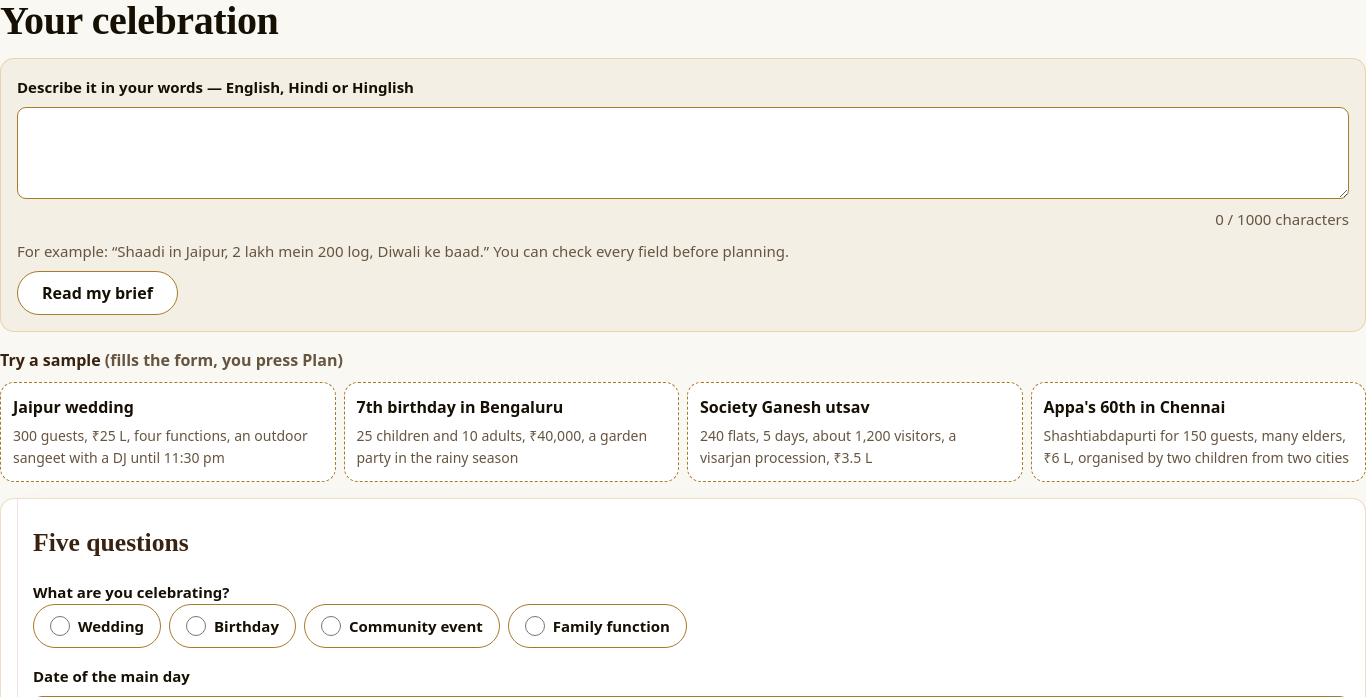
it: family choice › resets the occasion and drops functions from another family
This screenshot has width=1366, height=697.
Click the radio button labelled "Wedding".
click(60, 626)  # box 50,616 -> 70,636
(page scrolled)
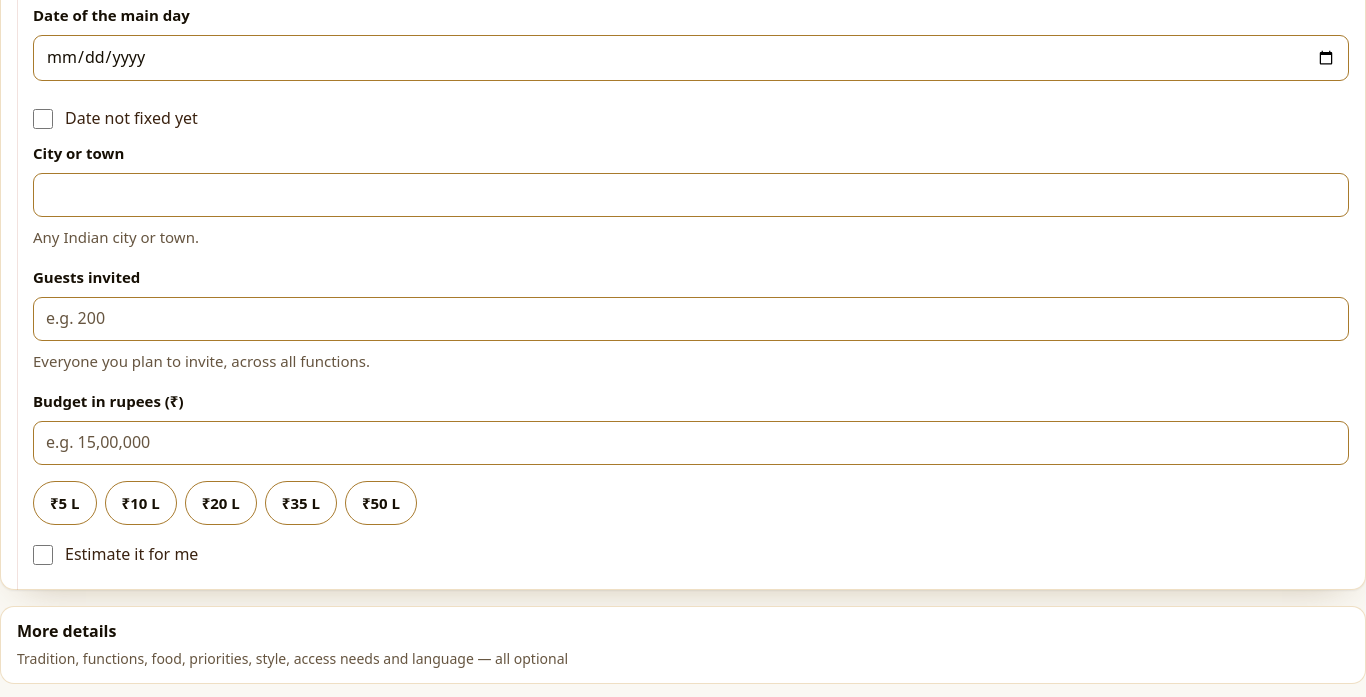
Click the text "More details".
click(67, 631)  # box 17,620 -> 116,642
(page scrolled)
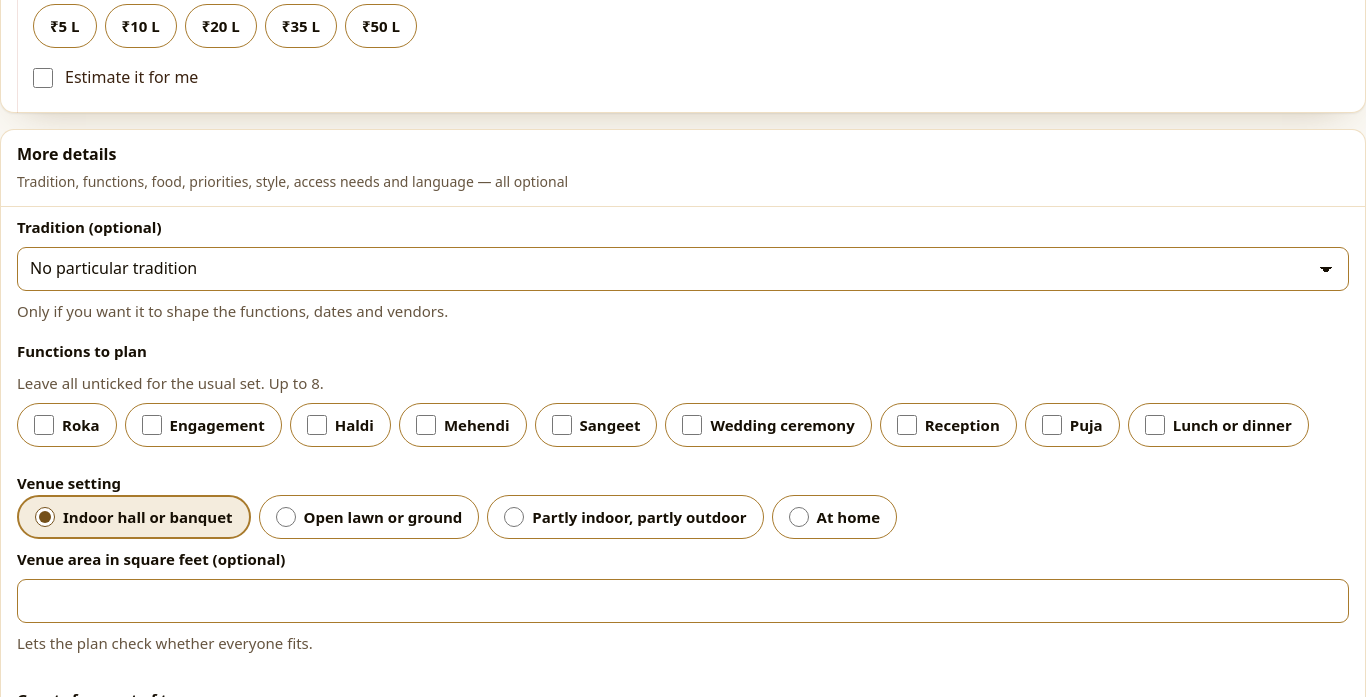
Click the checkbox labelled "Sangeet".
click(562, 425)  # box 552,415 -> 572,435
(page scrolled)
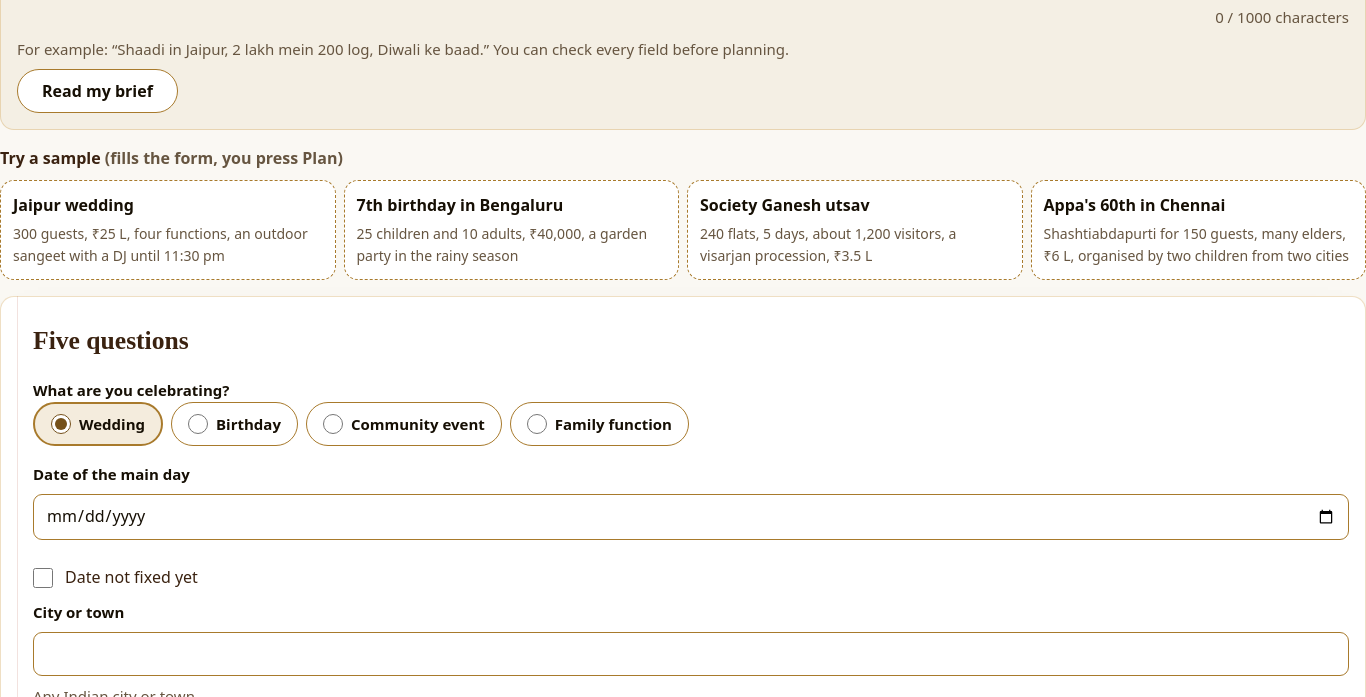
Click the radio button labelled "Birthday".
click(198, 424)  # box 188,414 -> 208,434
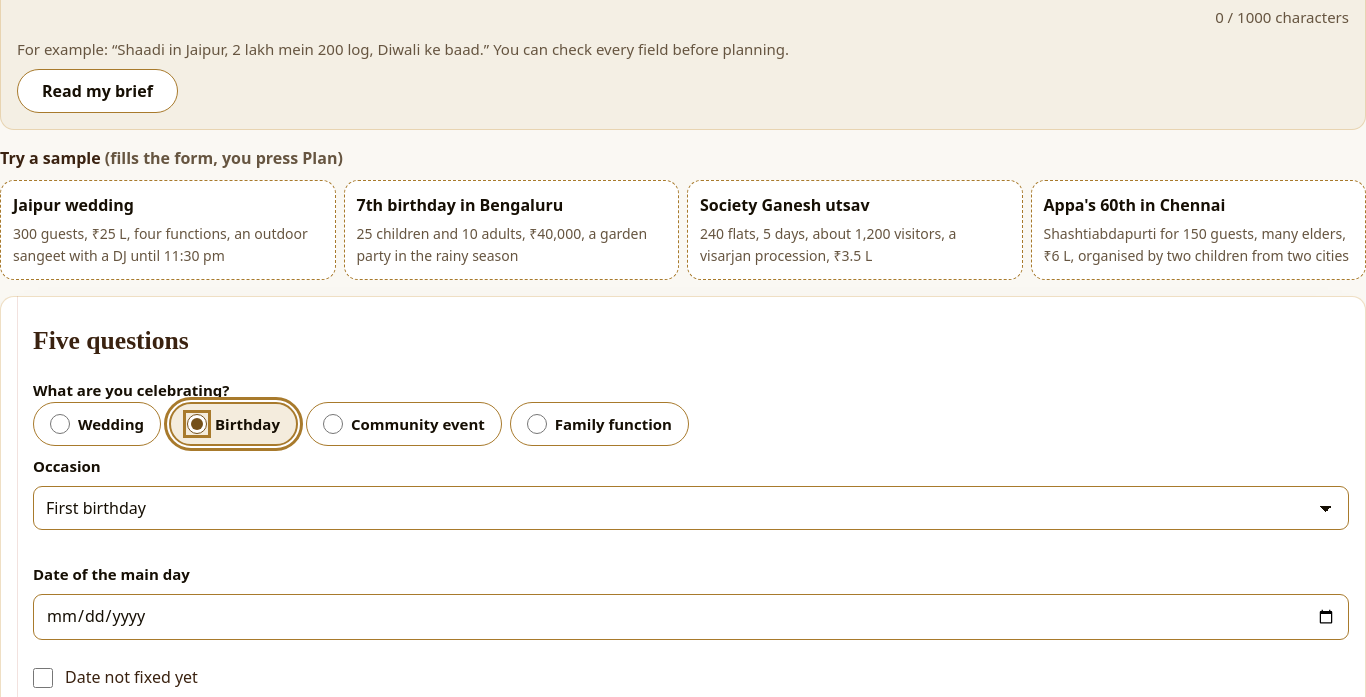
Check: the dropdown labelled "Occasion" shows "First birthday", box 33,486 -> 1349,530
